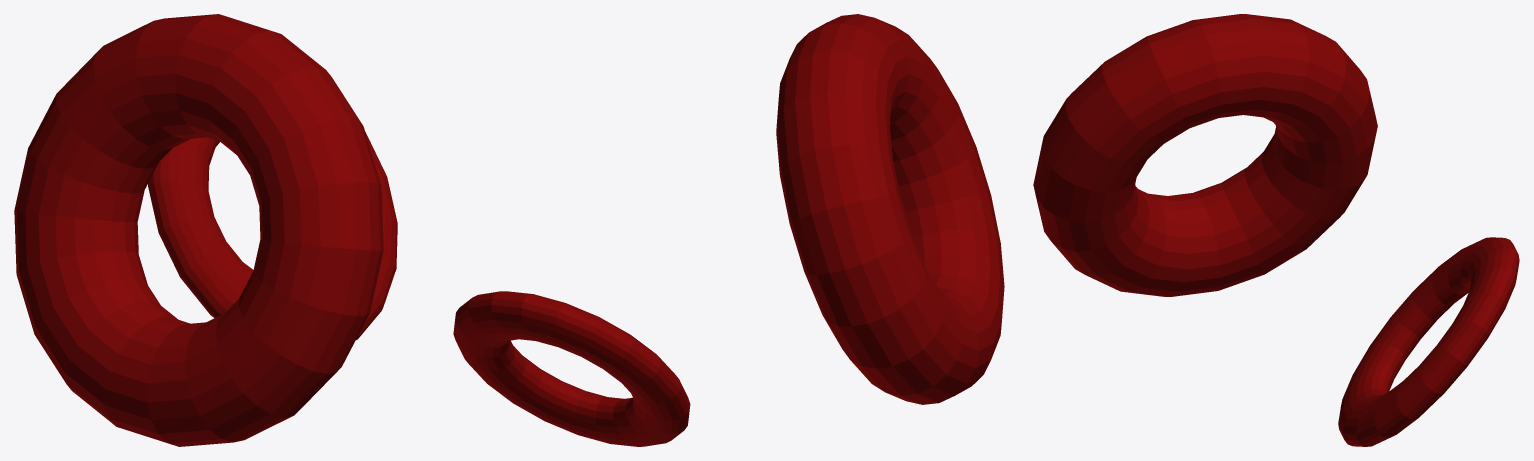
The model's file is effect_constant_transparent_texture_aone.dae.
3 views of the same model, side by side, from view 1: azimuth 30°, elevation 25°; view 2: azimuth 150°, elevation 25°; view 3: azimuth 270°, elevation 25° (orthographic). The views are drawn at different scales.
Visible parts, largest first — view 1: pTorus3, pTorus2; view 2: pTorus3, pTorus2; view 3: pTorus3, pTorus2.
Part boxes in pixels (x1=…): pTorus3: x1=14, y1=14, x2=383, y2=446; pTorus2: x1=148, y1=132, x2=397, y2=339; pTorus3: x1=776, y1=14, x2=1004, y2=404; pTorus2: x1=453, y1=291, x2=690, y2=446; pTorus3: x1=1033, y1=14, x2=1377, y2=296; pTorus2: x1=1338, y1=237, x2=1519, y2=446.
Bounding box in the file's own units: 308 × 283 × 357.
